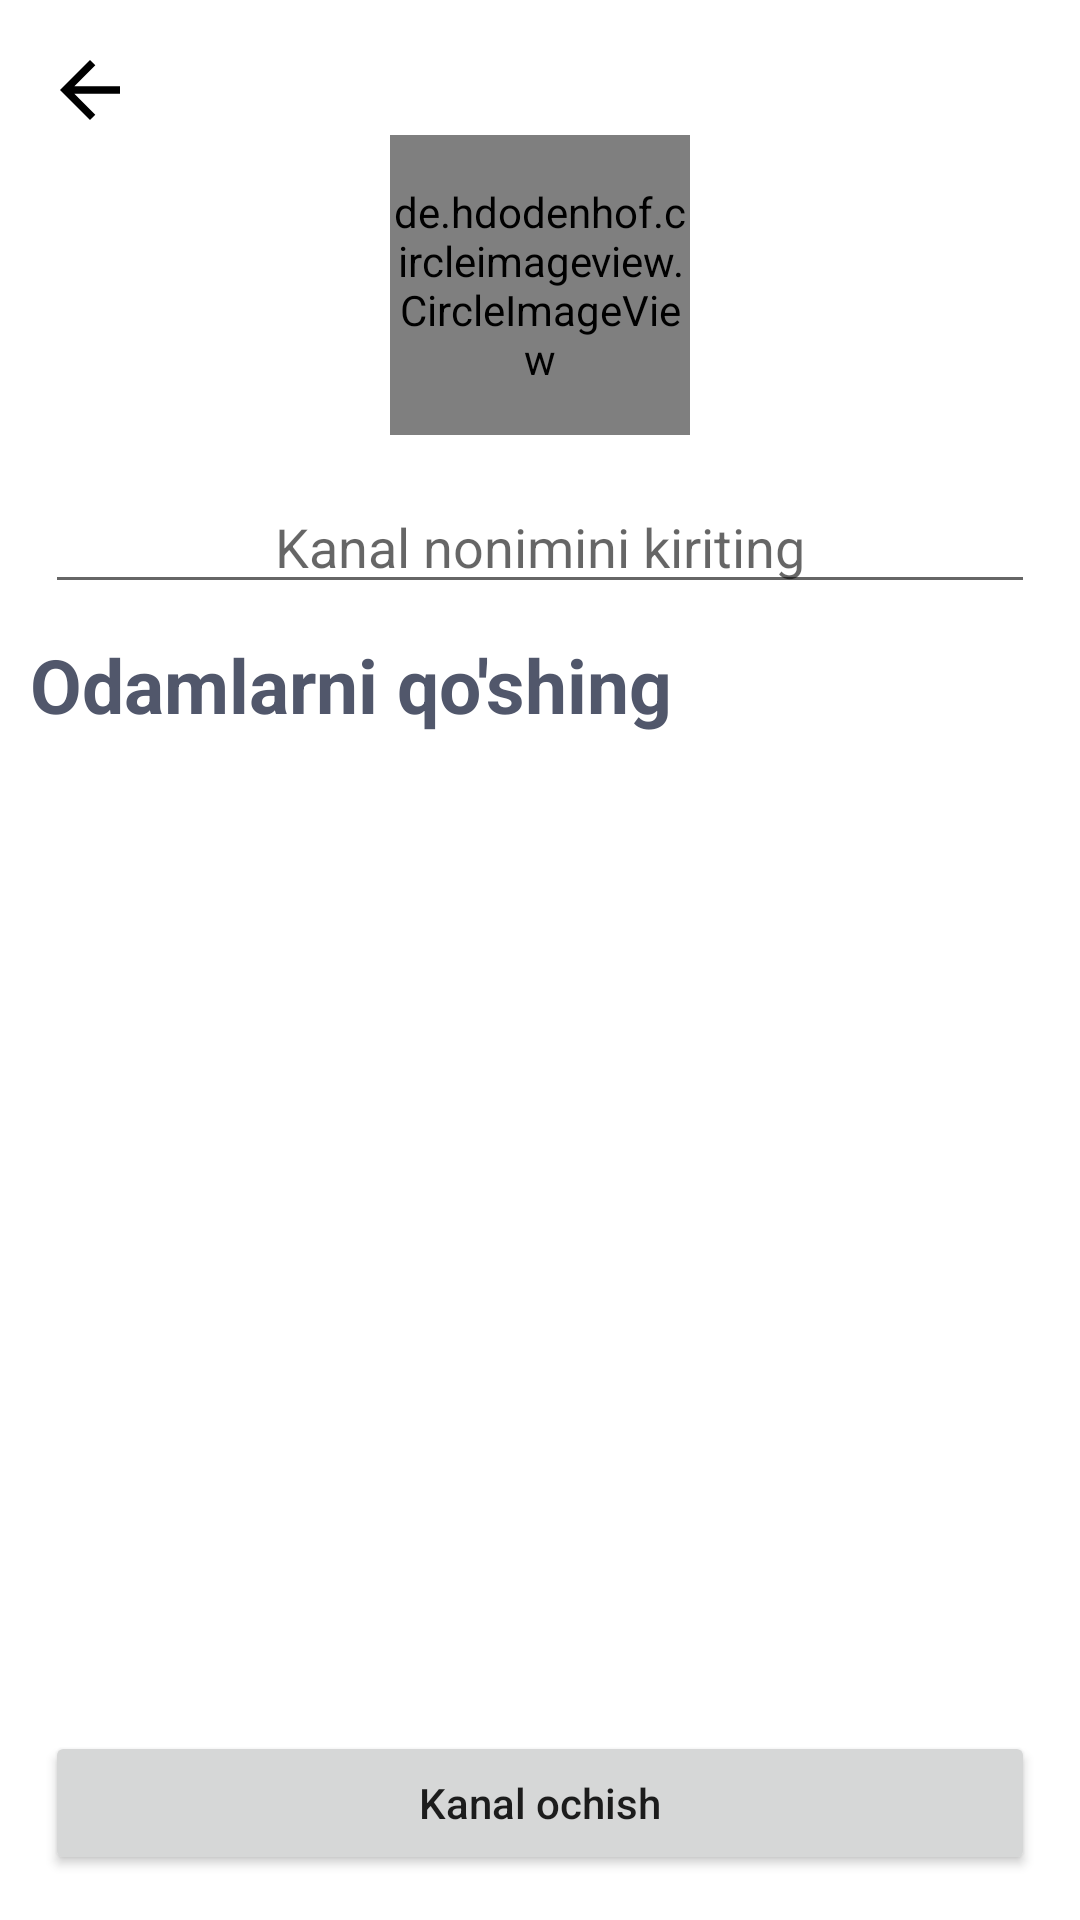

Locate icon controls on the screen. Image size 1080 × 1920, boxes as [x1, y1, x2, y2].
arrow back: [60, 60, 120, 120]
